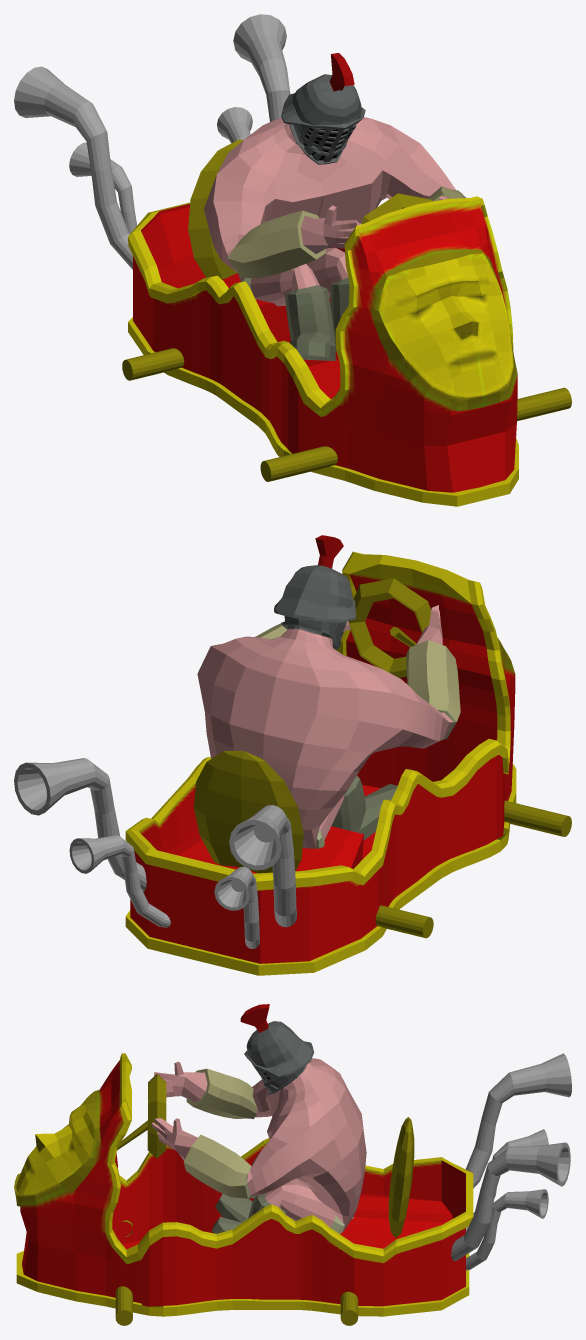
The model's file is gladiVacile_000590.obj.
3 views of the same model, one above another, from view 1: azimuth 30°, elevation 25°; view 2: azimuth 150°, elevation 25°; view 3: azimuth 270°, elevation 25° (orthographic). The views are drawn at different scales.
Visible parts, largest first — view 1: GladiChasis_GladiChasisH, Gadiador_Gladiador_H.001, GladiTubos_GladiTubosH, GladiVolante_GladiVolanteH; view 2: GladiChasis_GladiChasisH, Gadiador_Gladiador_H.001, GladiTubos_GladiTubosH, GladiVolante_GladiVolanteH; view 3: GladiChasis_GladiChasisH, Gadiador_Gladiador_H.001, GladiTubos_GladiTubosH, GladiVolante_GladiVolanteH.
Part boxes in pixels (left/top/right/bottom): GladiChasis_GladiChasisH: left=128, top=196, right=518, bottom=506; Gadiador_Gladiador_H.001: left=204, top=53, right=466, bottom=360; GladiTubos_GladiTubosH: left=14, top=14, right=290, bottom=269; GladiVolante_GladiVolanteH: left=122, top=139, right=571, bottom=481; GladiChasis_GladiChasisH: left=125, top=551, right=516, bottom=975; Gadiador_Gladiador_H.001: left=197, top=535, right=460, bottom=848; GladiTubos_GladiTubosH: left=14, top=758, right=296, bottom=948; GladiVolante_GladiVolanteH: left=193, top=578, right=571, bottom=938; GladiChasis_GladiChasisH: left=14, top=1053, right=473, bottom=1316; Gadiador_Gladiador_H.001: left=150, top=1004, right=366, bottom=1233; GladiTubos_GladiTubosH: left=451, top=1053, right=571, bottom=1270; GladiVolante_GladiVolanteH: left=115, top=1074, right=414, bottom=1325.
Size of the model in its own units: 5.46 by 5.76 by 10.78.
